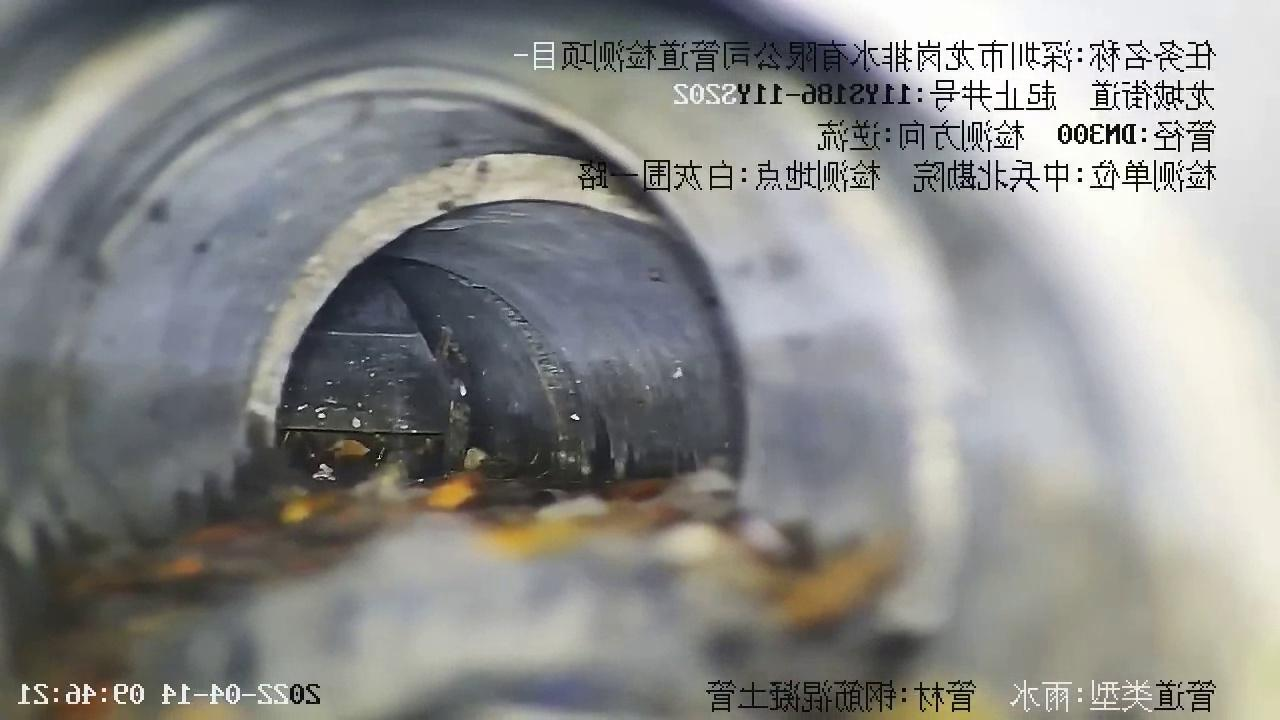CKTJ: (245, 153, 695, 443)
